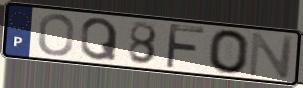8: (126, 20, 158, 66)
F: (163, 22, 207, 71)
N: (247, 31, 297, 79)
O: (208, 28, 252, 76), (36, 12, 76, 58)
Q: (80, 16, 120, 63)
